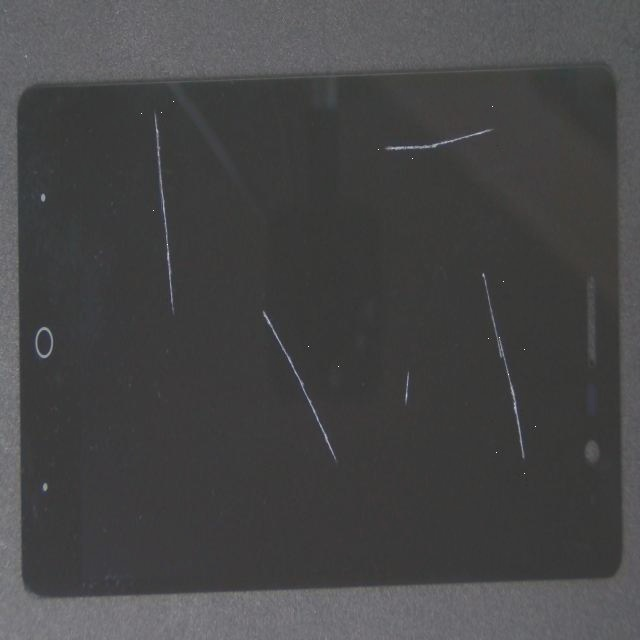scratch: (215, 152, 610, 543), (258, 118, 640, 367), (142, 135, 396, 461), (196, 36, 565, 213), (56, 0, 227, 335)
